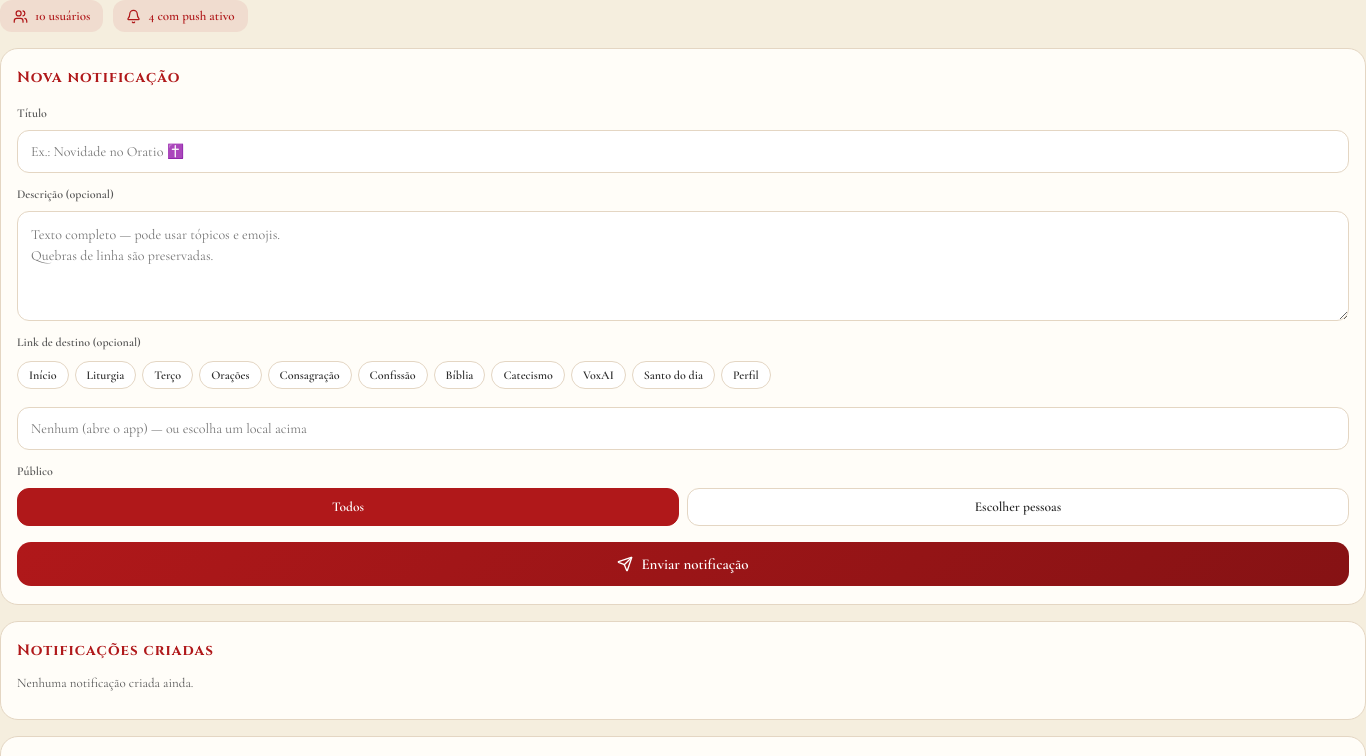
Test case: AdminNotifications › sends to ALL, shows the targeted count, and clears the form
Type "Aviso geral" into the field with placeholder "Ex.: Novidade no Oratio ✝️" at (683, 152), box [17, 130, 1349, 173]
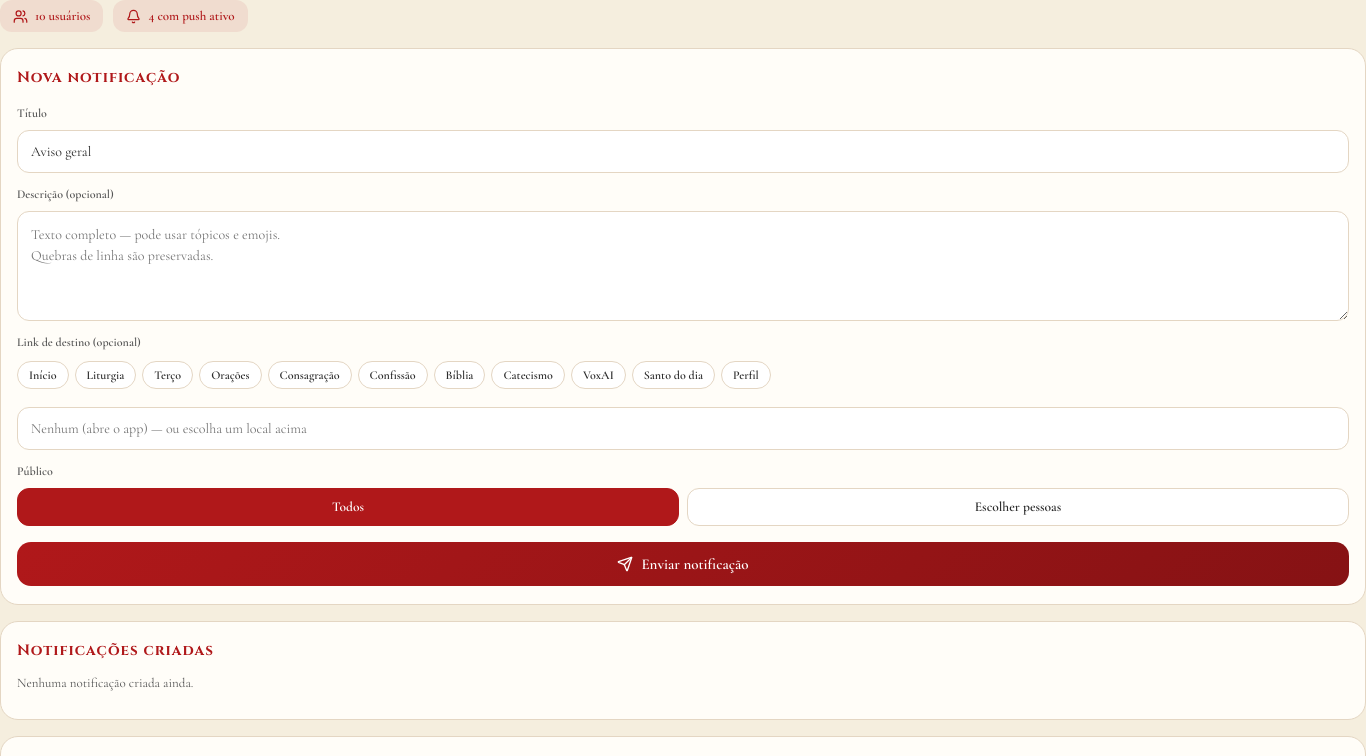
Click the button "Enviar notificação" at (683, 564), box [17, 542, 1349, 586]
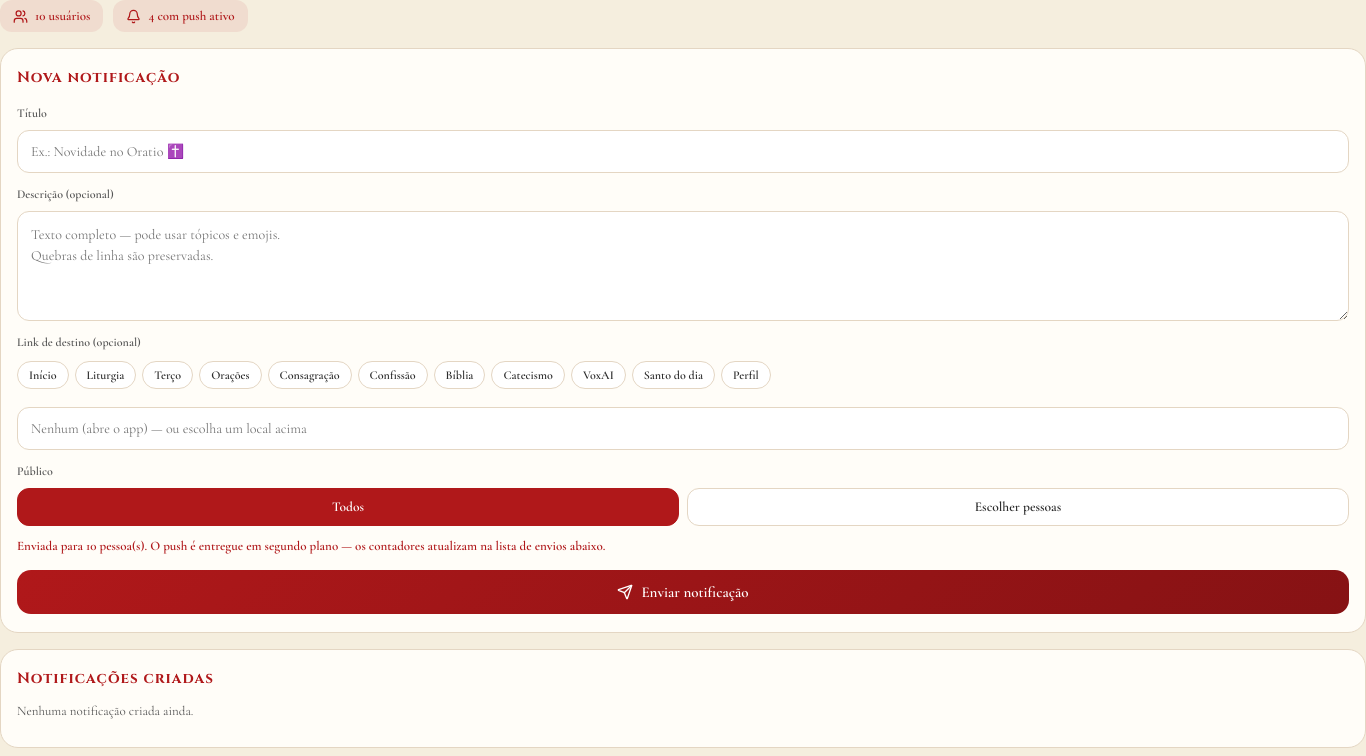
Check: the text "Enviada para 10 pessoa(s)" is shown, box [17, 538, 606, 554]
Check: the field with placeholder "Ex.: Novidade no Oratio ✝️" is empty, box [17, 130, 1349, 173]
